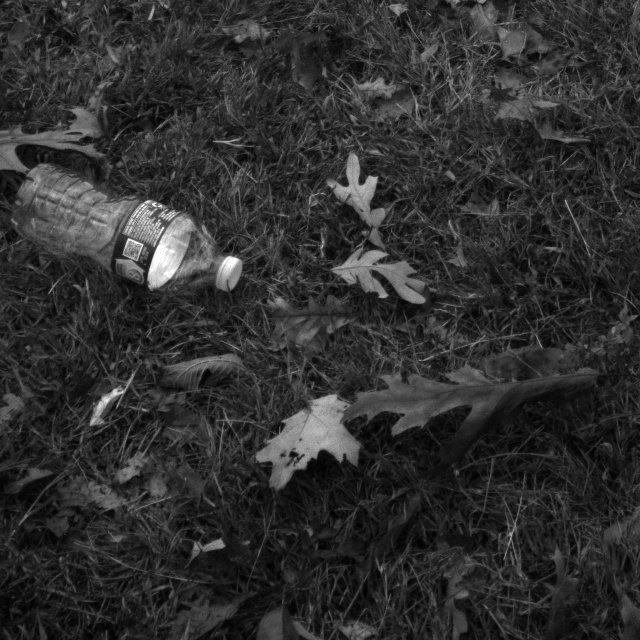bottle: (9, 155, 254, 308)
